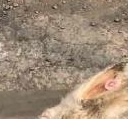text: (97, 70, 125, 96)
